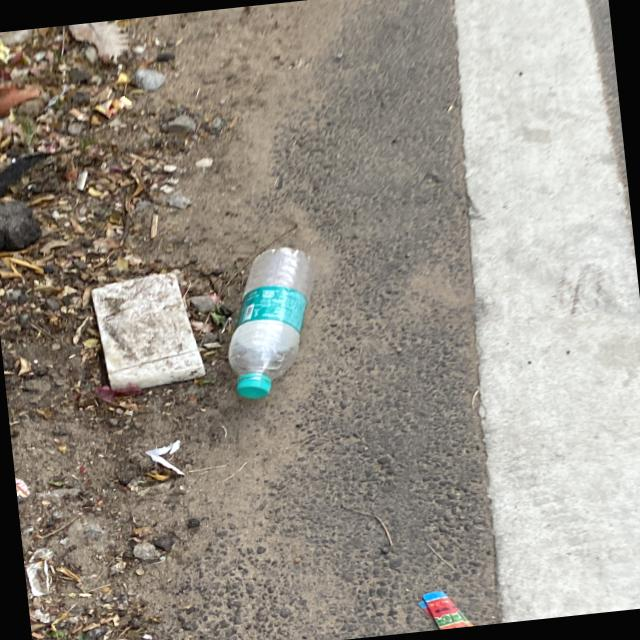chai_nhua: (228, 247, 313, 398)
giay_goi: (418, 592, 473, 629)
